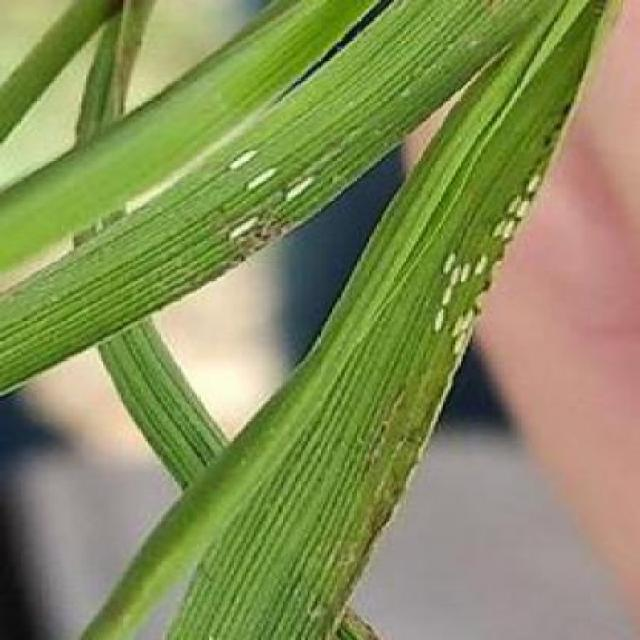whorl-maggot: (220, 208, 269, 246), (272, 169, 322, 202), (418, 308, 457, 337), (223, 140, 257, 172), (246, 165, 283, 192), (524, 168, 550, 200), (506, 194, 537, 217), (497, 214, 520, 243), (478, 252, 496, 282), (437, 243, 455, 272), (452, 331, 472, 352), (440, 284, 457, 308), (463, 308, 480, 329)
